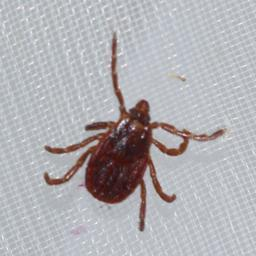Rhipicephalus sanguineus: (83, 22, 251, 205)
